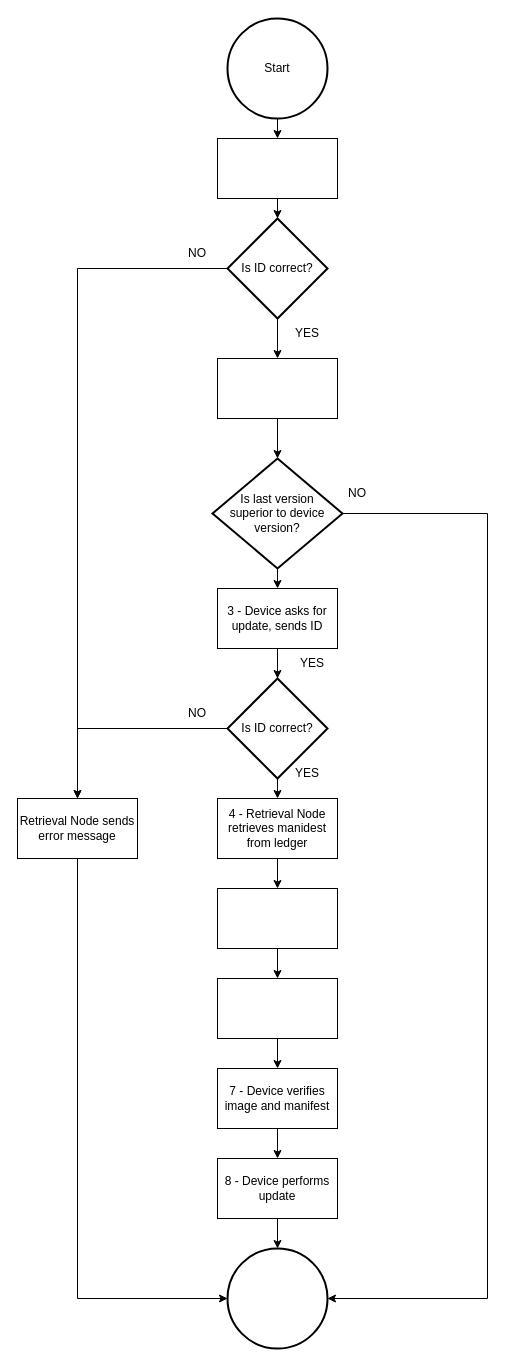
The diagram is 513 pixels wide and 1366 high, and some of its shapes have lost their labels. Here are the shapes that lost their labels. From the top down, the centre of each, then its label:
the point at 277,168: 1 - Device ask for last version, sends identifier
the point at 277,388: 2 - Retrieval Node sends last version
the point at 277,918: 5 - Retrieval Node retrives image from IPFS net
the point at 277,1008: 6 - Retrieval Node send manifest and image to device
the point at 277,1298: END
